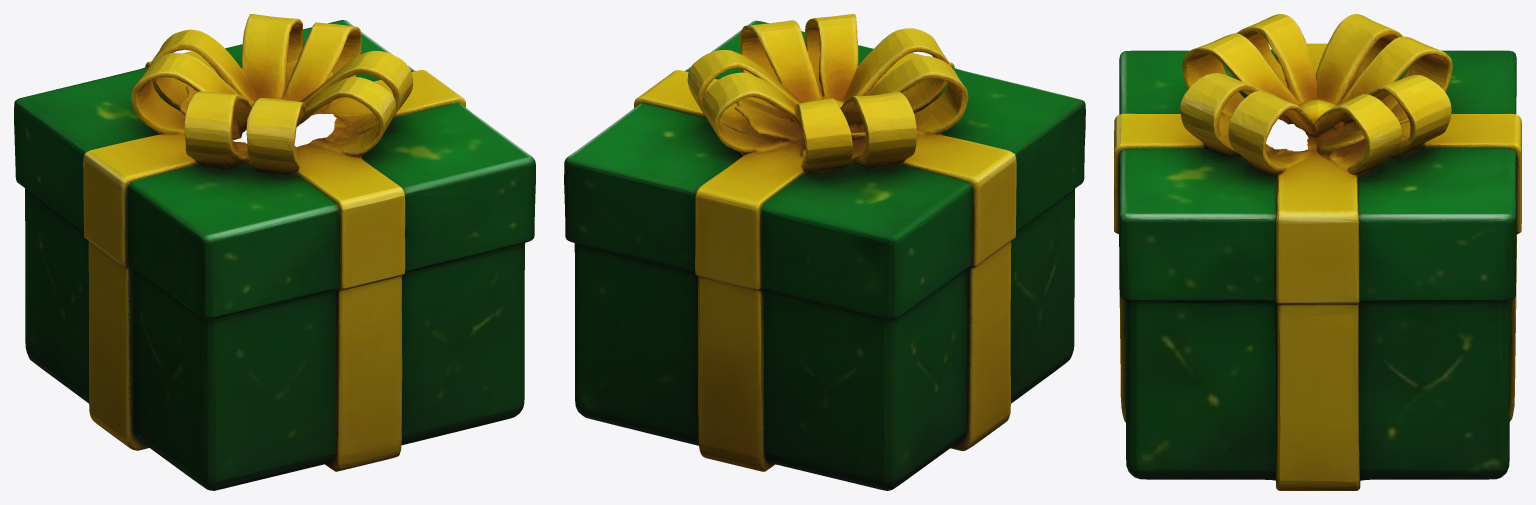
File: wrapped-present.glb
The picture shows the model from 3 angles, left to right: view 1: azimuth 30°, elevation 25°; view 2: azimuth 150°, elevation 25°; view 3: azimuth 270°, elevation 25°; orthographic projection. The views are drawn at different scales.
Visible parts, largest first — view 1: world; view 2: world; view 3: world.
Part boxes in pixels (bbox=[...]): world: bbox=[14, 14, 535, 490]; world: bbox=[564, 14, 1085, 490]; world: bbox=[1114, 14, 1521, 490].
Bounding box in the file's own units: 0.9817 × 0.9247 × 0.9749.
Materials: 1 (1 with a texture image).
